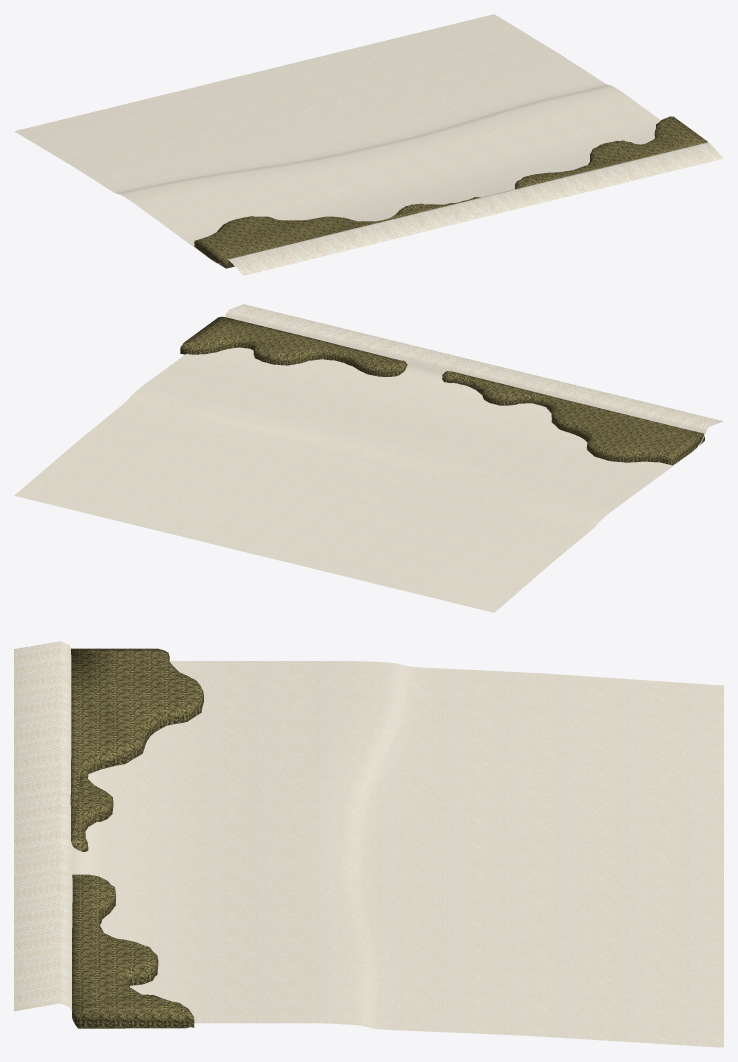
File: Beach.glb
The picture shows the model from 3 angles, top to bottom: view 1: azimuth 30°, elevation 25°; view 2: azimuth 150°, elevation 25°; view 3: azimuth 270°, elevation 25°; orthographic projection. The views are drawn at different scales.
Parts seen in each view (by area): view 1: Beach, Shrubs; view 2: Beach, Shrubs; view 3: Beach, Shrubs.
Part boxes in pixels (<box>): Beach: <box>14,14,723,275</box>; Shrubs: <box>194,116,707,268</box>; Beach: <box>14,304,723,612</box>; Shrubs: <box>180,316,704,465</box>; Beach: <box>14,641,723,1047</box>; Shrubs: <box>70,648,203,1028</box>.
Bounding box in the file's own units: 142 × 8 × 116.
2 materials, 2 textured.
